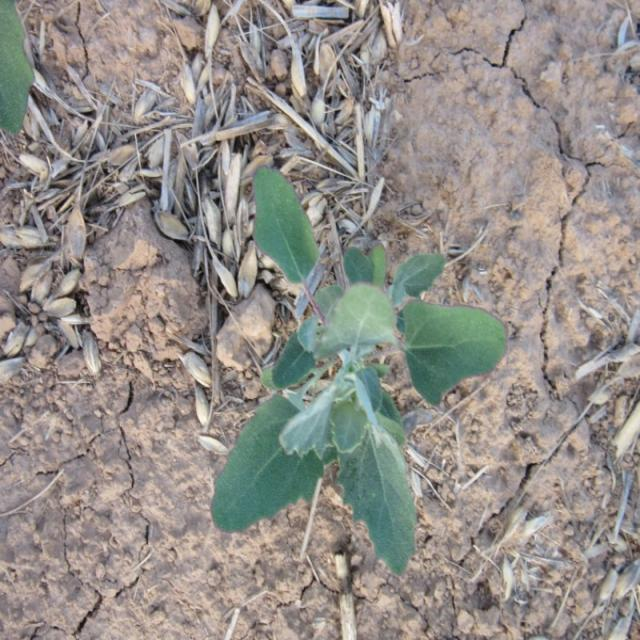ca: (213, 167, 500, 569)
